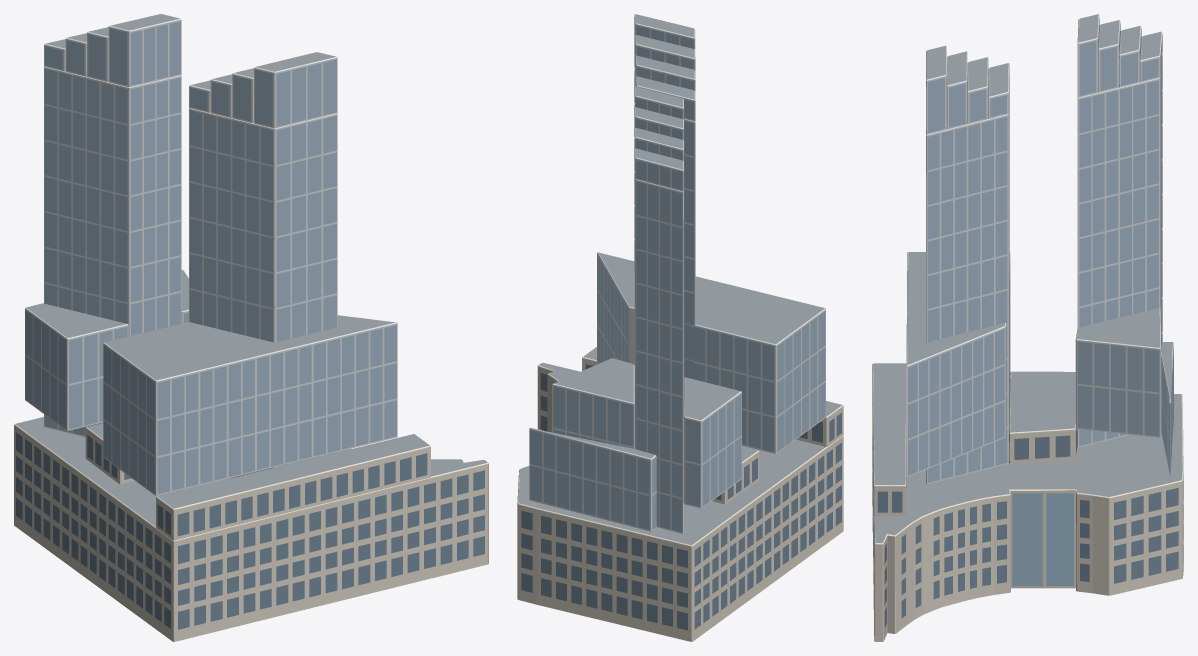
Rendered from nyc-deutsche-bank-center.glb.
3 views of the same model, side by side, from view 1: azimuth 30°, elevation 25°; view 2: azimuth 150°, elevation 25°; view 3: azimuth 270°, elevation 25° (orthographic). The views are drawn at different scales.
Parts seen in each view (by area): view 1: Deutsche Bank Center; view 2: Deutsche Bank Center; view 3: Deutsche Bank Center.
Boxes of the visible parts, left/top/right/bottom form: Deutsche Bank Center: left=14, top=14, right=488, bottom=641; Deutsche Bank Center: left=517, top=14, right=843, bottom=641; Deutsche Bank Center: left=872, top=14, right=1183, bottom=641.
Size of the model in its own units: 147 by 230 by 129.
